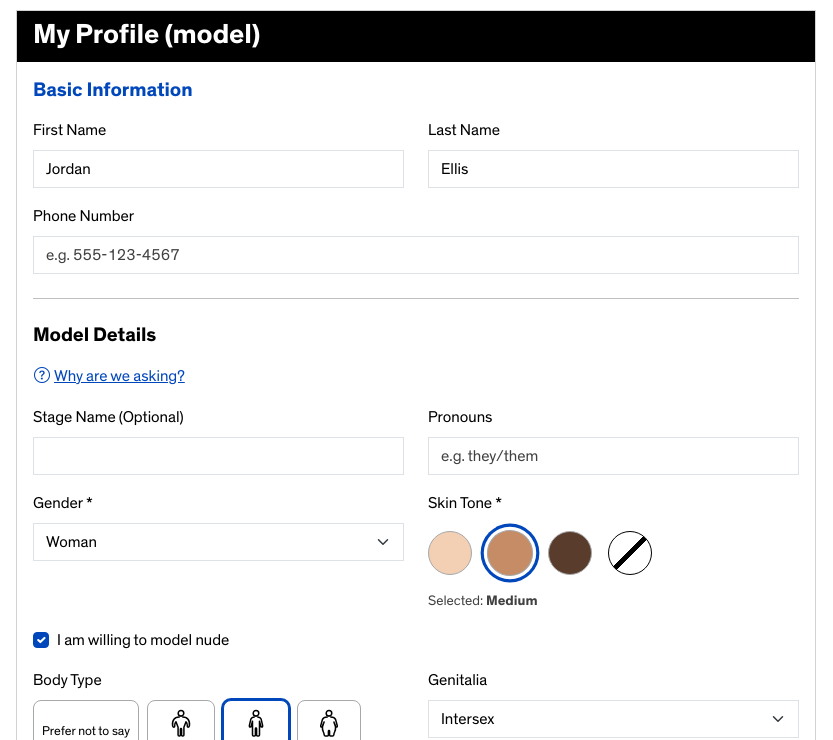
Test: Profile › explains why the server refused the save
The image size is (833, 740).
Click the checkbox labelled "I am willing to model nude" at (41, 640), box left=33, top=632, right=49, bottom=648
(page scrolled)
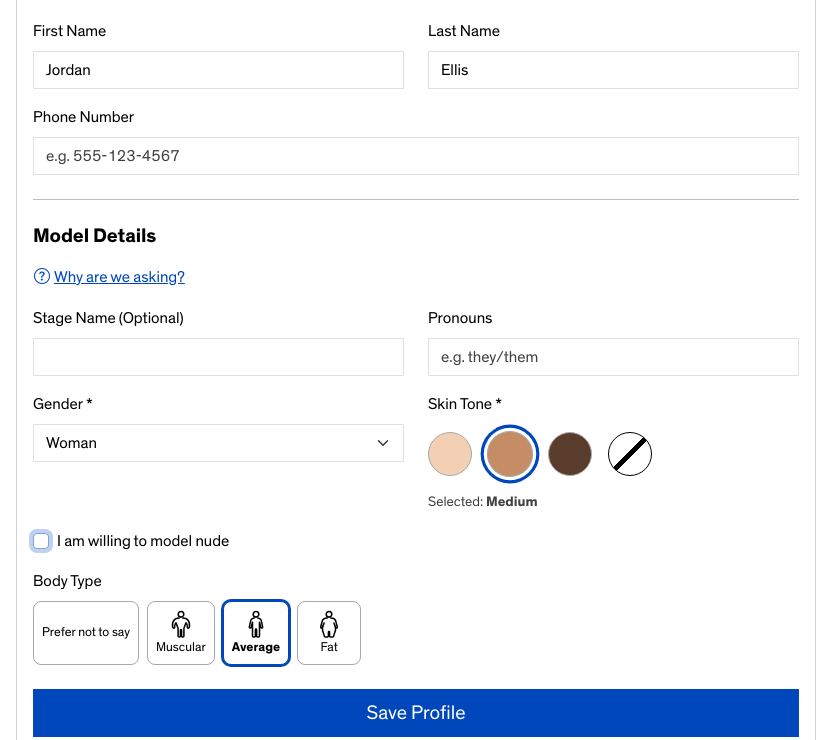
Click the button "Save Profile" at (416, 713), box left=33, top=689, right=799, bottom=737
(page scrolled)
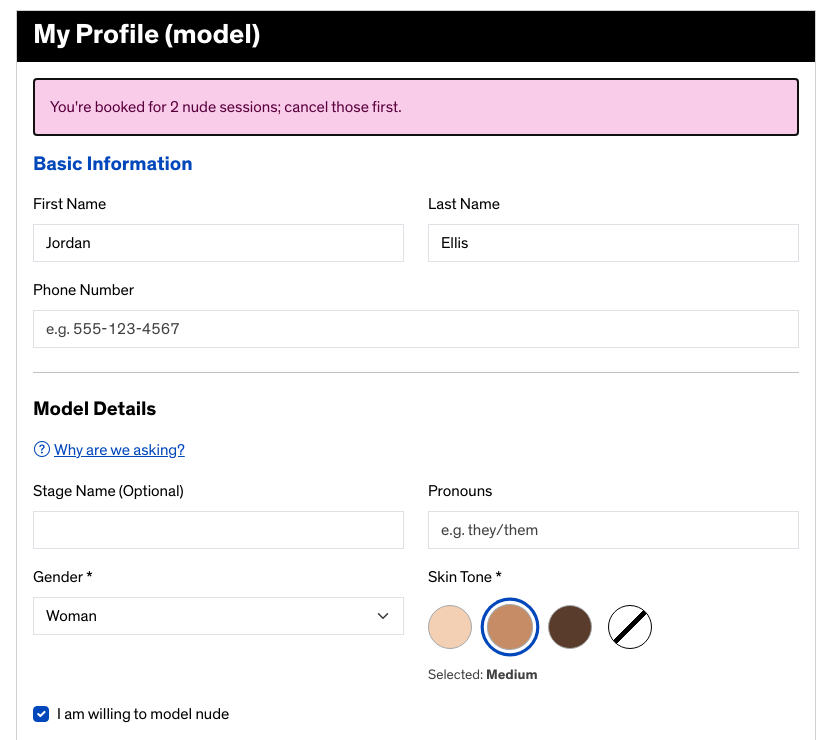
Check: the text "You're booked for 2 nude sessions; cancel those first." is shown, box left=33, top=78, right=799, bottom=136
